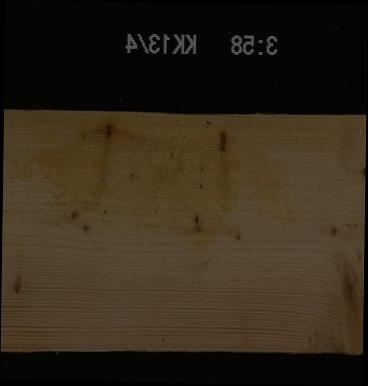small_knot: (319, 209, 363, 257), (360, 165, 364, 178)
